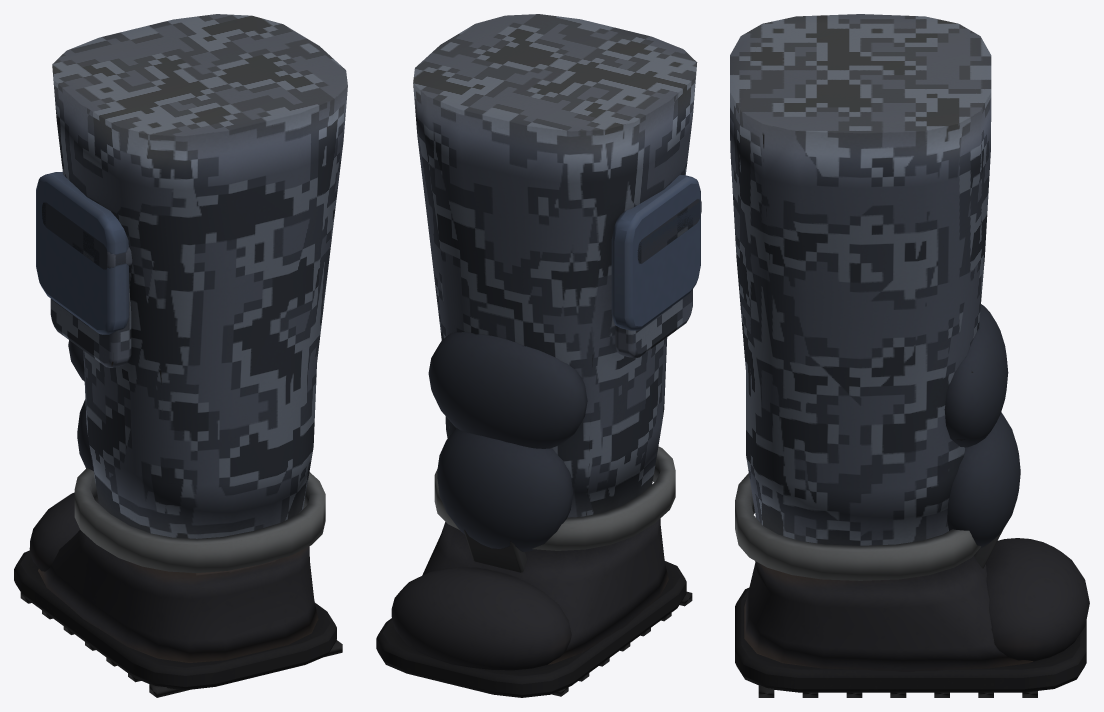
File: Bravo_Leg_L.glb
3 renders of one model, left to right at view 1: azimuth 30°, elevation 25°; view 2: azimuth 150°, elevation 25°; view 3: azimuth 270°, elevation 25°, orthographic. The views are drawn at different scales.
Parts seen in each view (by area): view 1: Bravo_Leg_L_body; view 2: Bravo_Leg_L_body; view 3: Bravo_Leg_L_body.
Part boxes in pixels (bbox=[...]): Bravo_Leg_L_body: bbox=[14, 14, 347, 697]; Bravo_Leg_L_body: bbox=[376, 14, 701, 697]; Bravo_Leg_L_body: bbox=[730, 14, 1089, 697].
Size of the model in its own units: 0.91 by 2.03 by 1.15.
1 material, 1 textured.
